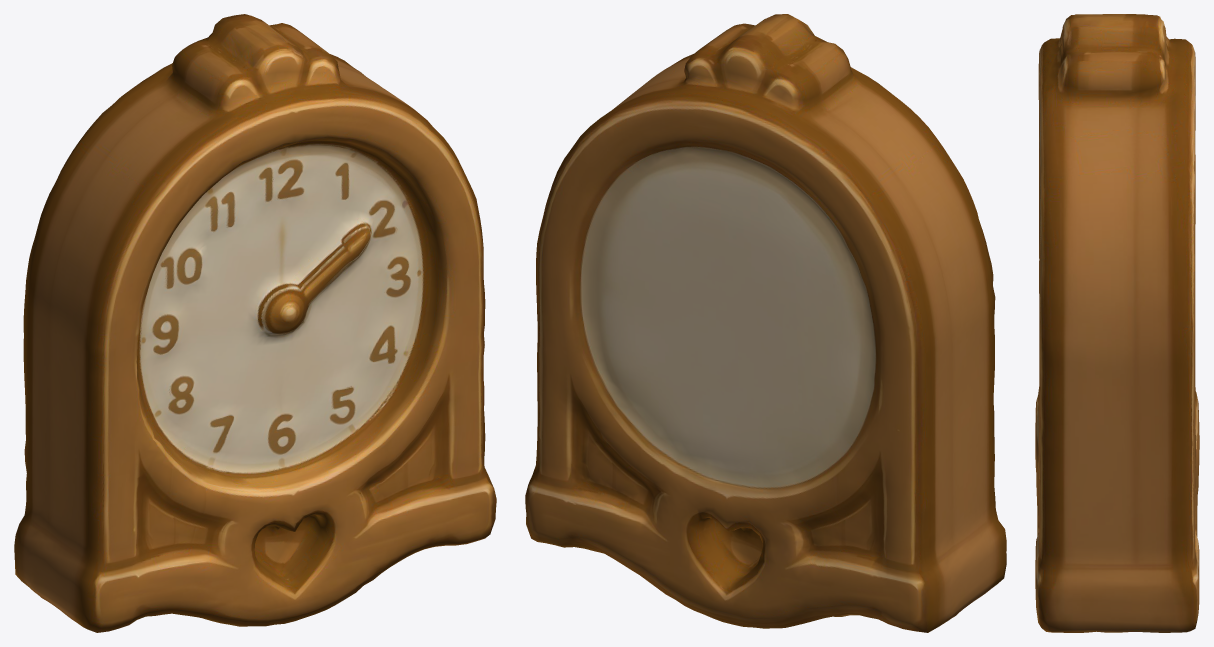
File: Wood_wallclock.glb
3 renders of one model, left to right at view 1: azimuth 30°, elevation 25°; view 2: azimuth 150°, elevation 25°; view 3: azimuth 270°, elevation 25°, orthographic.
Parts seen in each view (by area): view 1: RETOPO; view 2: RETOPO; view 3: RETOPO.
Part boxes in pixels (x1,y1,x2,y2): RETOPO: (14, 14, 496, 632); RETOPO: (525, 14, 1006, 632); RETOPO: (1035, 14, 1199, 632).
Bounding box in the file's own units: 0.7825 × 1.04 × 0.2761.
1 material, 1 textured.
